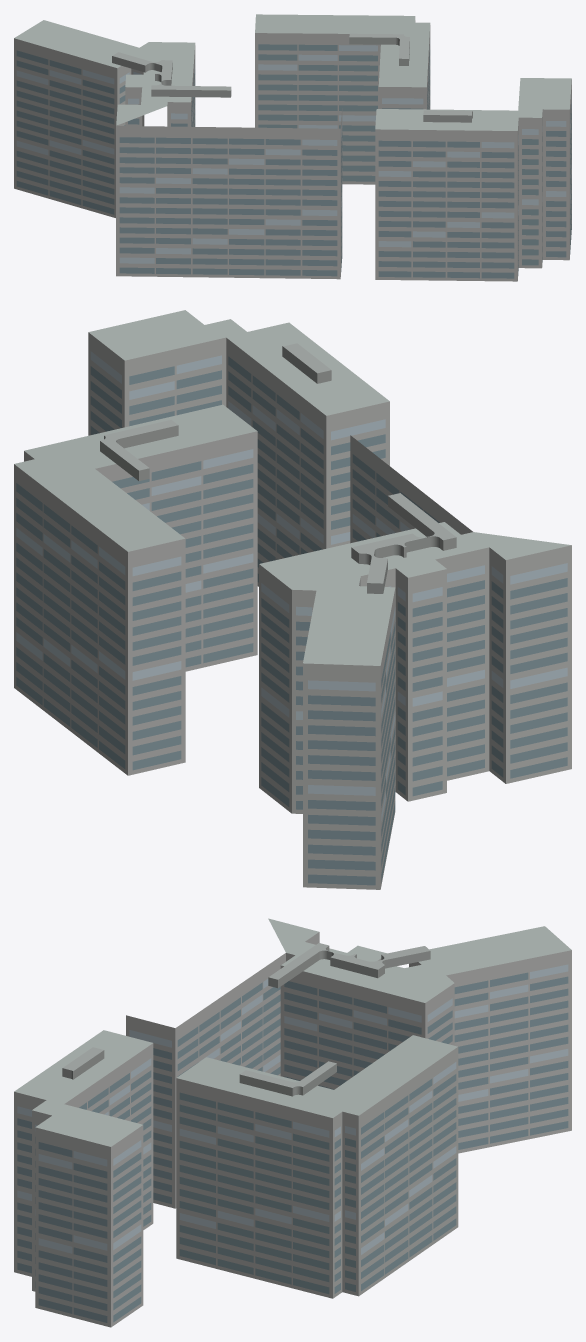
The model's file is apt-a13922904.glb.
3 renders of one model, top to bottom at view 1: azimuth 30°, elevation 25°; view 2: azimuth 150°, elevation 25°; view 3: azimuth 270°, elevation 25°, orthographic. The views are drawn at different scales.
Parts seen in each view (by area): view 1: apt-a13922904; view 2: apt-a13922904; view 3: apt-a13922904.
Part boxes in pixels (bbox=[...]): apt-a13922904: bbox=[14, 14, 571, 281]; apt-a13922904: bbox=[14, 310, 571, 889]; apt-a13922904: bbox=[14, 918, 571, 1327].
Bounding box in the file's own units: 109 × 42 × 112.
